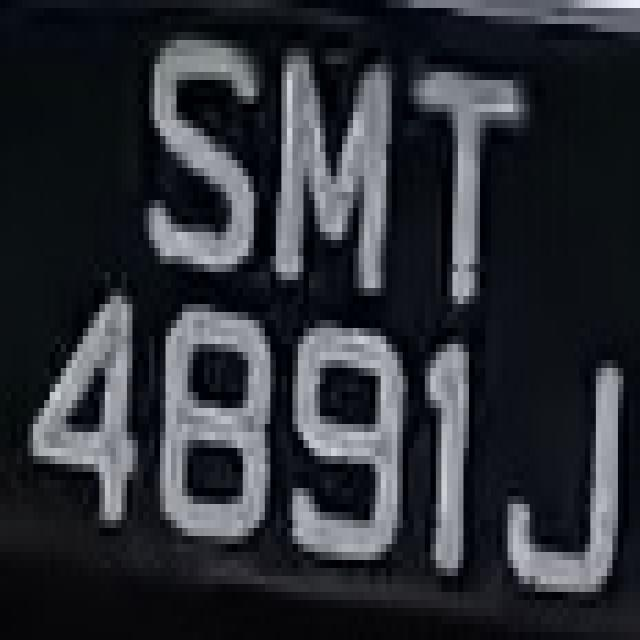1: (414, 312, 485, 616)
4: (16, 248, 138, 544)
8: (282, 264, 419, 576), (149, 272, 287, 560)
J: (508, 312, 634, 616)
M: (260, 48, 408, 328)
S: (138, 16, 259, 288)
T: (392, 40, 546, 312)
